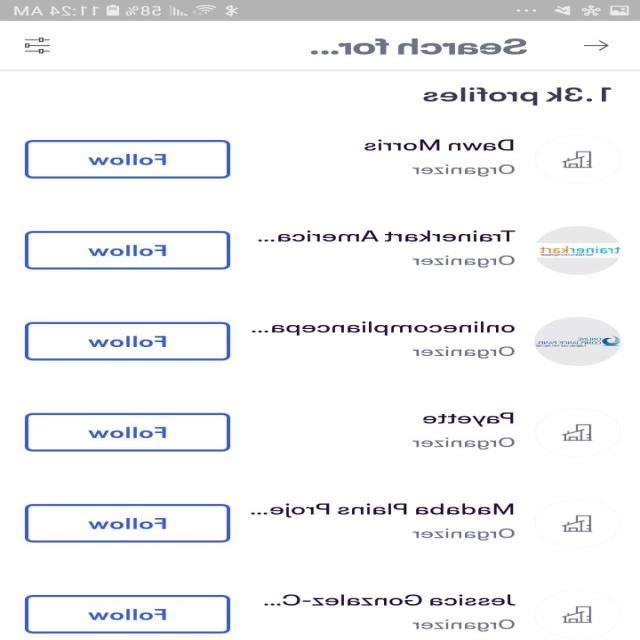Icon: (25, 37, 51, 54), (583, 40, 609, 51)
Image: (534, 589, 622, 639), (534, 316, 622, 366), (534, 498, 622, 547), (534, 408, 622, 457), (534, 135, 622, 184), (535, 226, 621, 274)
Text: (250, 502, 514, 518), (252, 320, 516, 336), (311, 38, 528, 55), (423, 87, 612, 106), (264, 593, 516, 606), (258, 230, 516, 242), (364, 139, 514, 151), (412, 618, 516, 632), (412, 436, 516, 449), (412, 255, 516, 268), (412, 164, 516, 177), (423, 412, 515, 426), (412, 346, 516, 358), (412, 528, 514, 540)
TextButton: (25, 594, 231, 634), (25, 503, 231, 543), (25, 412, 231, 452), (25, 321, 231, 361), (25, 230, 231, 270), (25, 139, 231, 179)
